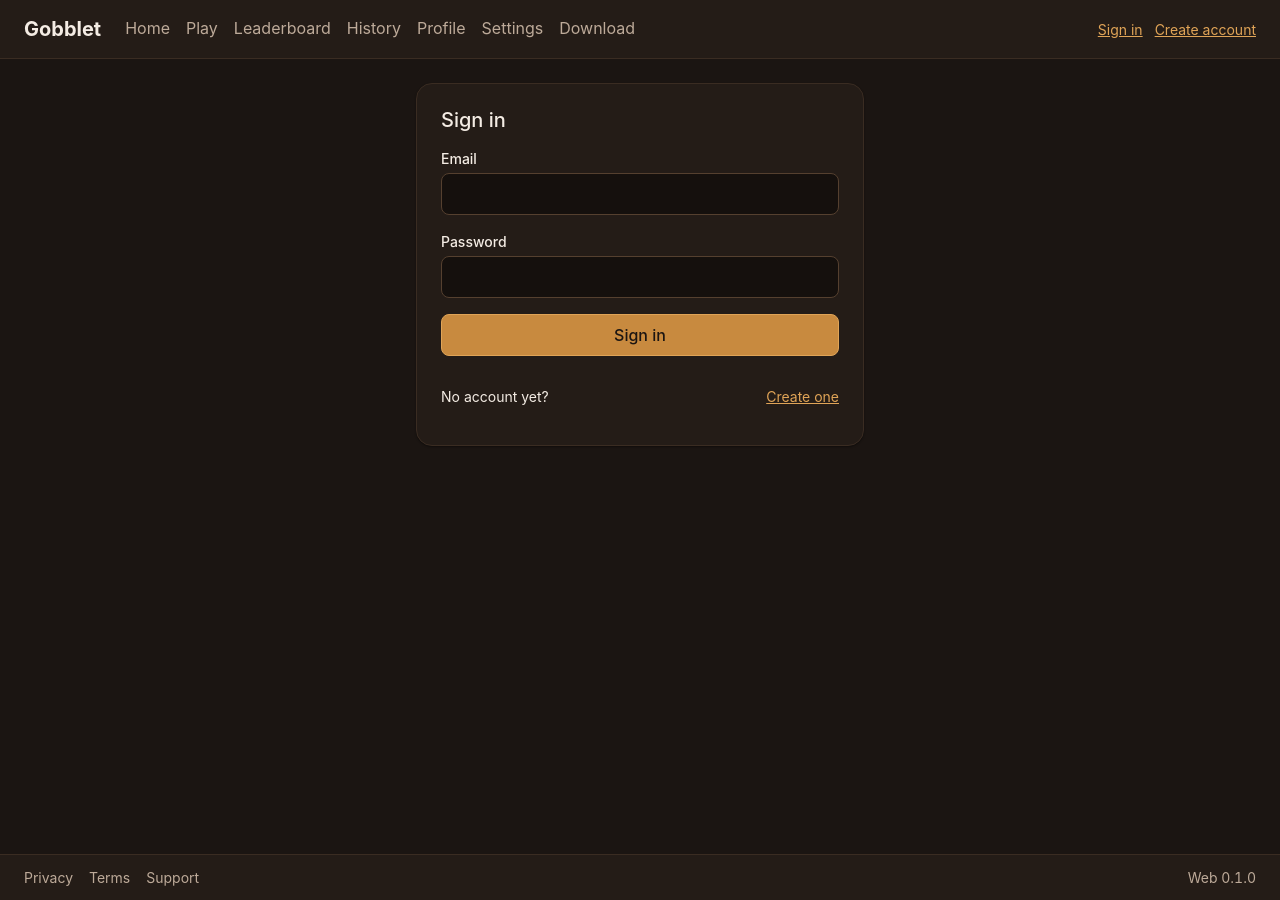
Scenario: sign in › stores the session and returns to the lobby
The width and height of the screenshot is (1280, 900).
Type "ada@example.com" into the field labelled "Email". click: point(640, 194)
box: x1=441 y1=173 x2=839 y2=215
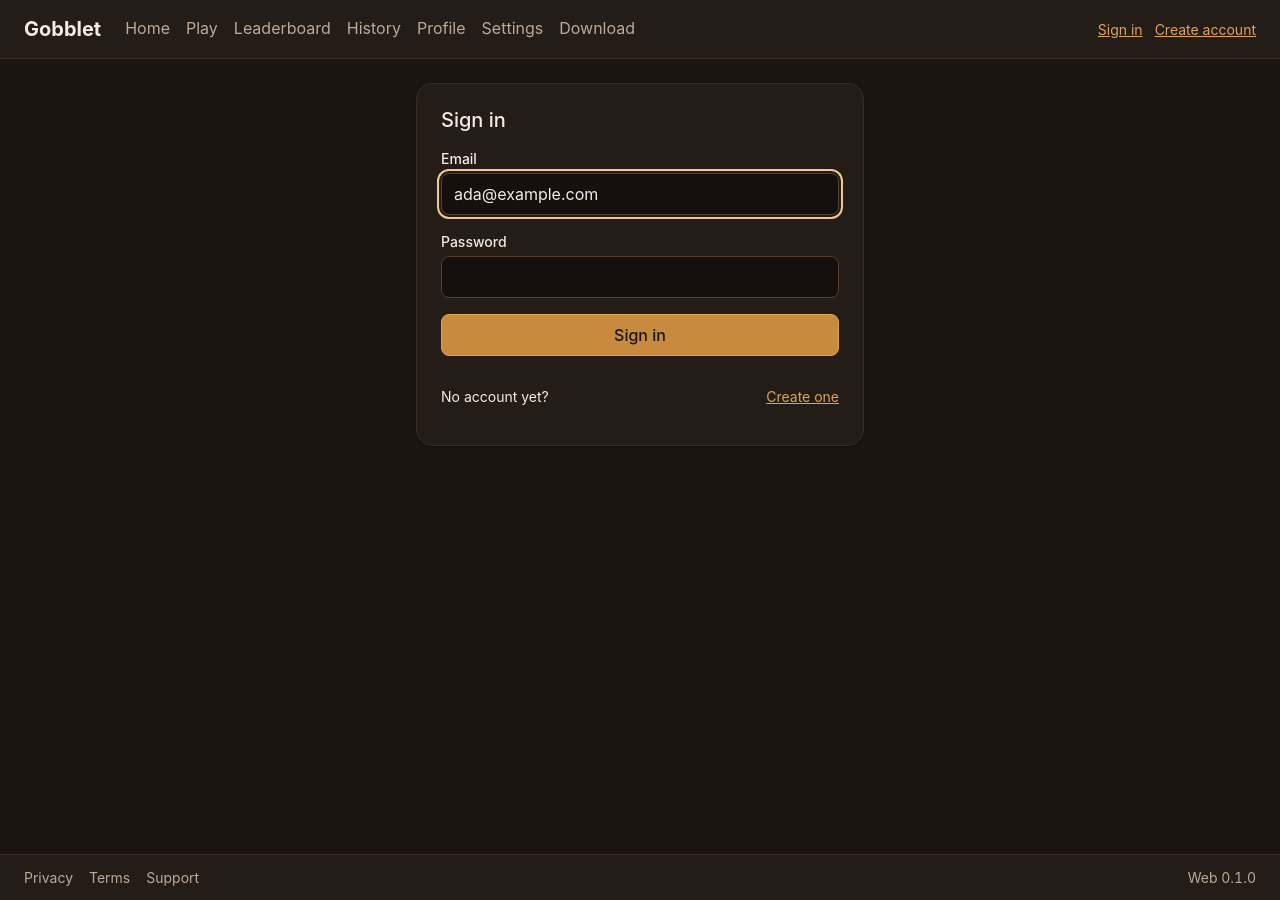
Type "correct horse 1" into the password field labelled "Password". click: point(640, 277)
box: x1=441 y1=256 x2=839 y2=298
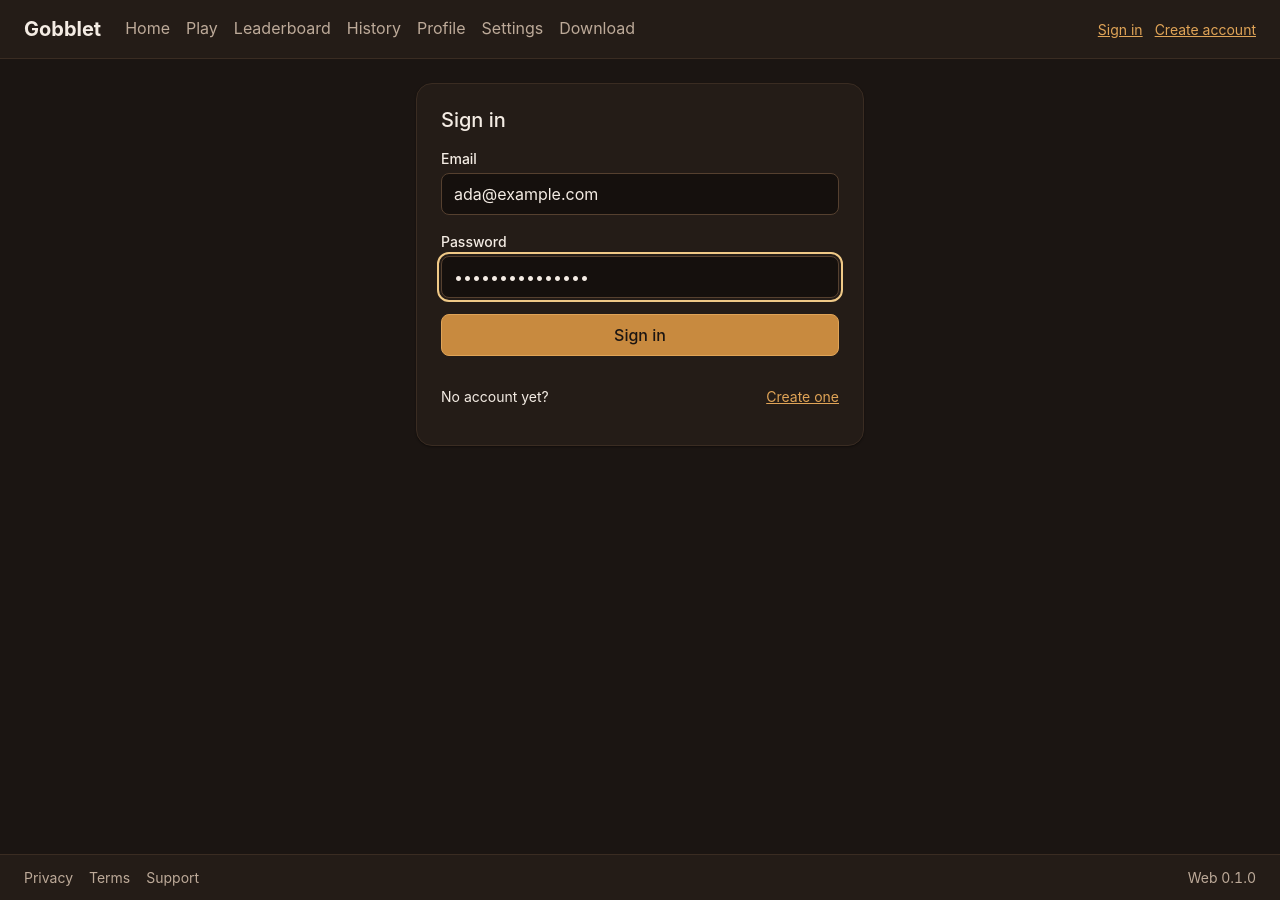
Click the button with test id "sign-in-submit". click: point(640, 335)
box: x1=441 y1=314 x2=839 y2=356
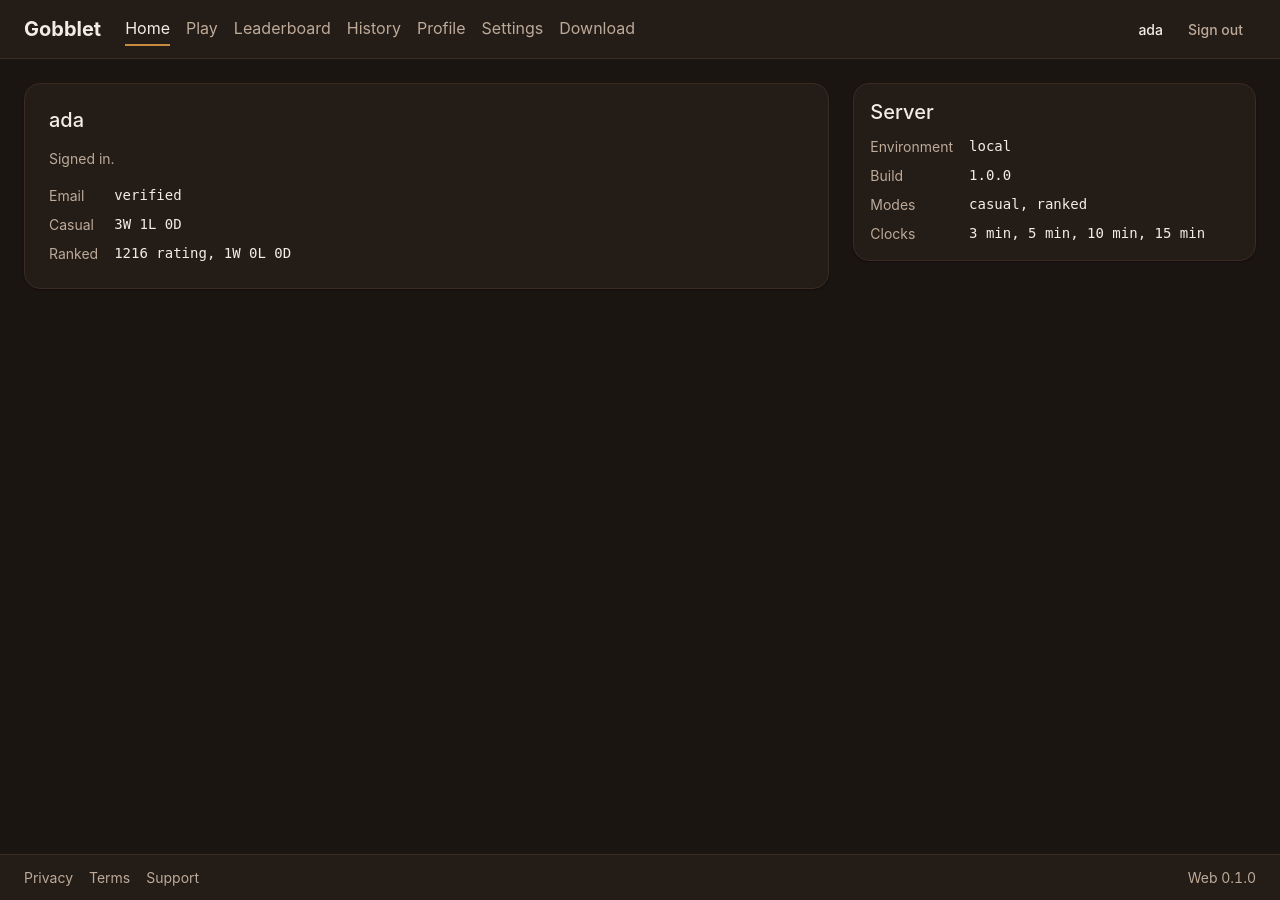
Now the element with test id "account-record" is shown, box x1=49 y1=187 x2=291 y2=262
